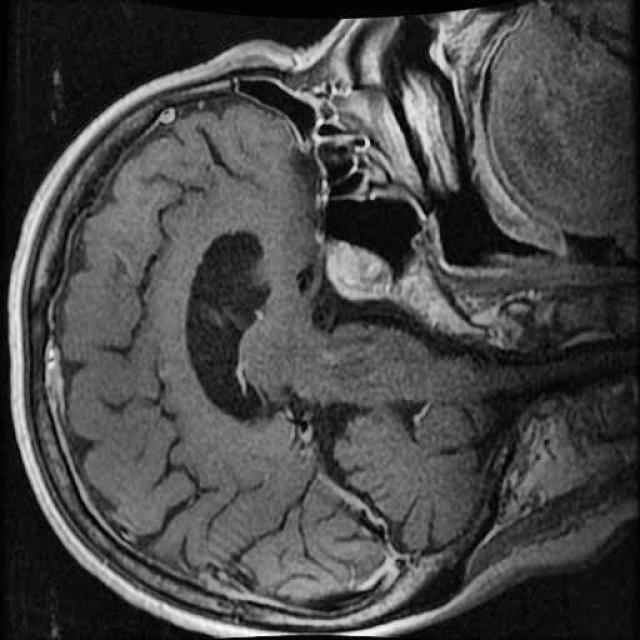Tumor: (312, 216, 419, 318)
